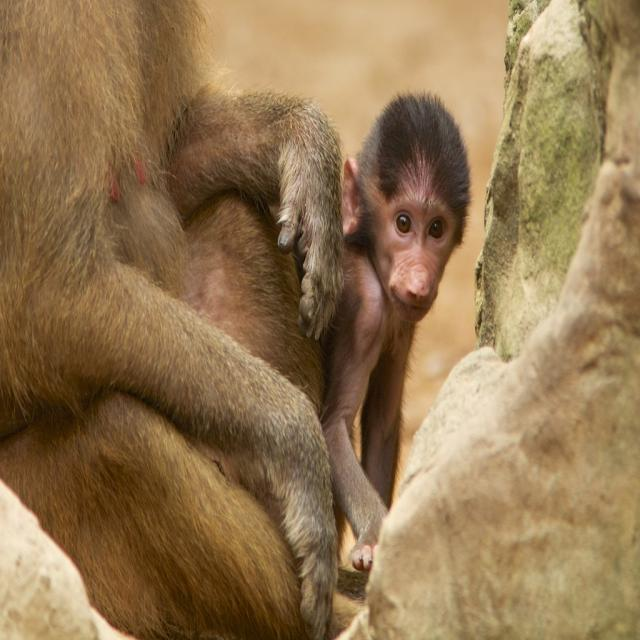Monkey: (0, 0, 363, 639), (330, 91, 480, 559)
